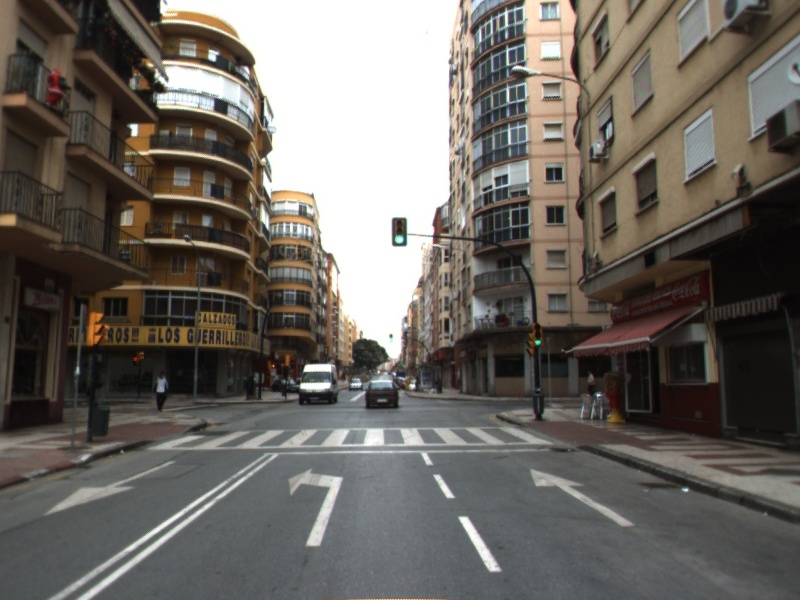LEFT: (287, 466, 345, 548)
STRAIGHT: (529, 467, 636, 528)
